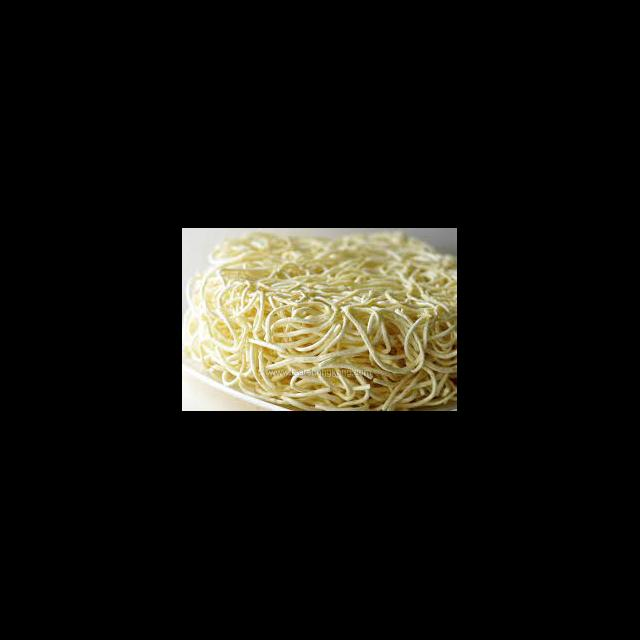noodles: (208, 240, 458, 400)
